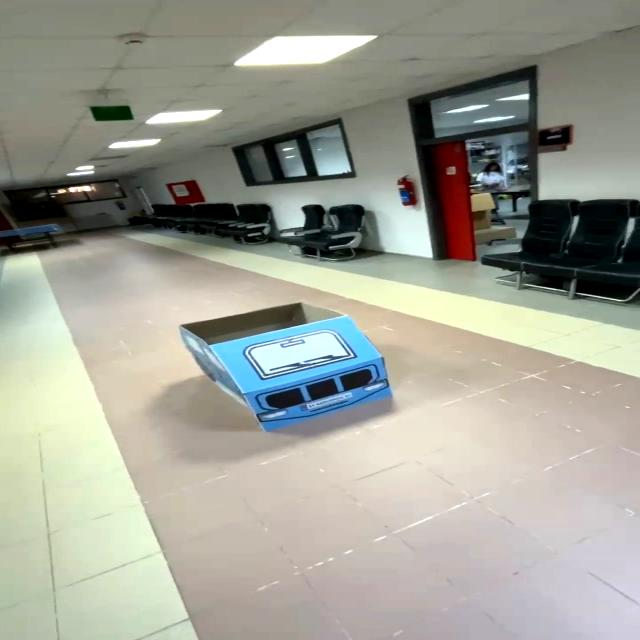blue_car: (151, 287, 414, 445)
